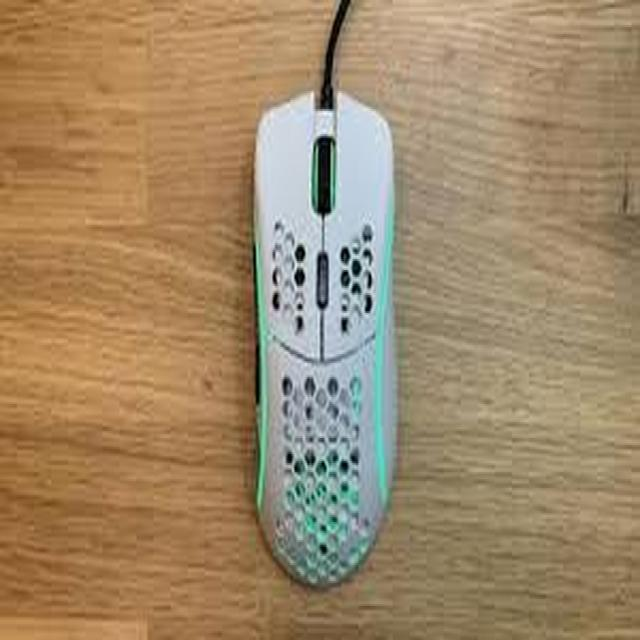mouse: (228, 80, 418, 596)
